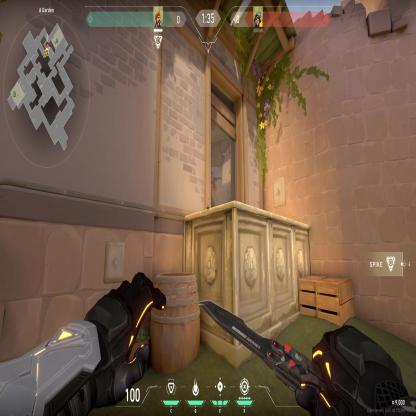enemy: (210, 166, 216, 208)
